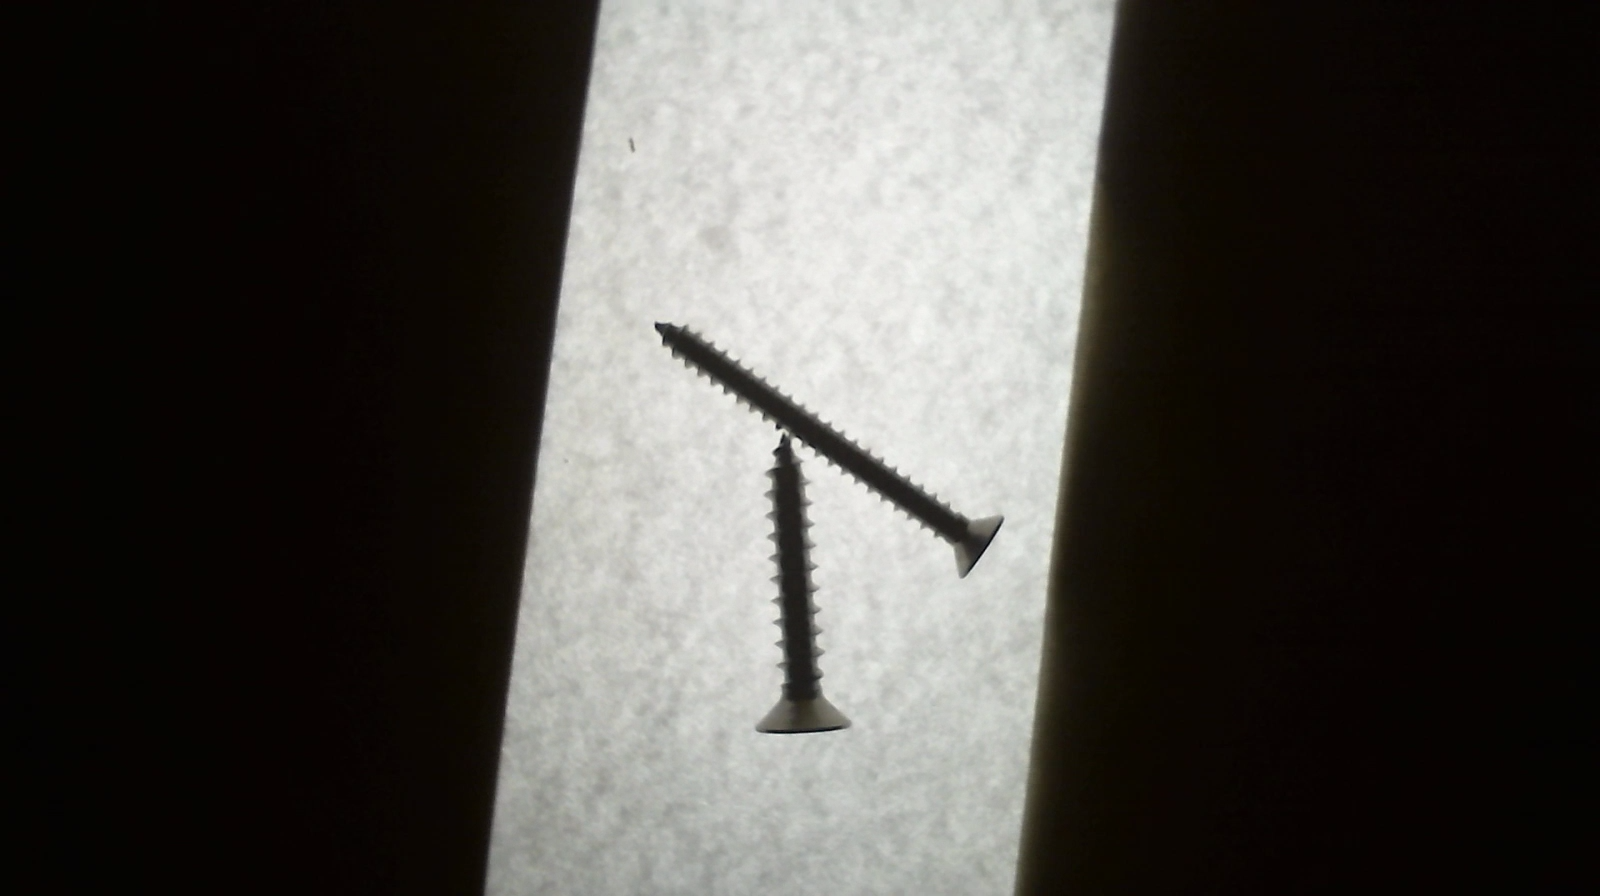S001: (732, 421, 857, 739)
S002: (653, 312, 1007, 586)
